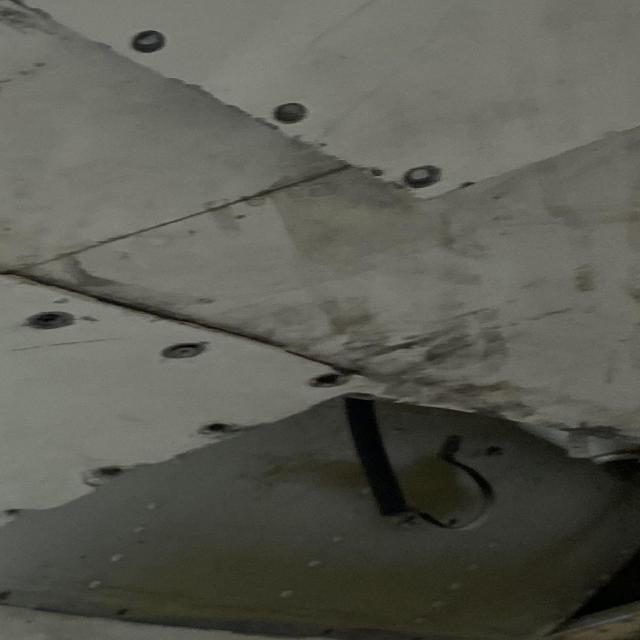Missing-head: (403, 164, 445, 189), (25, 311, 75, 330), (131, 28, 168, 53), (274, 101, 309, 124), (310, 371, 350, 389), (200, 422, 241, 437)
